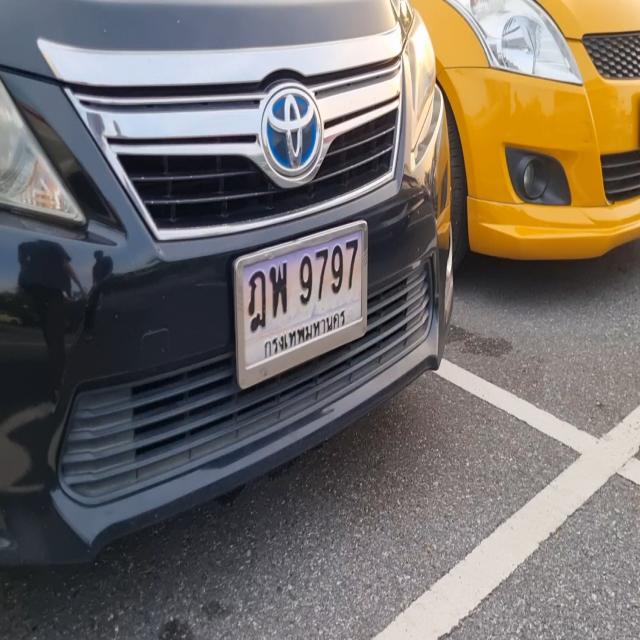license_plate: (232, 212, 372, 393)
